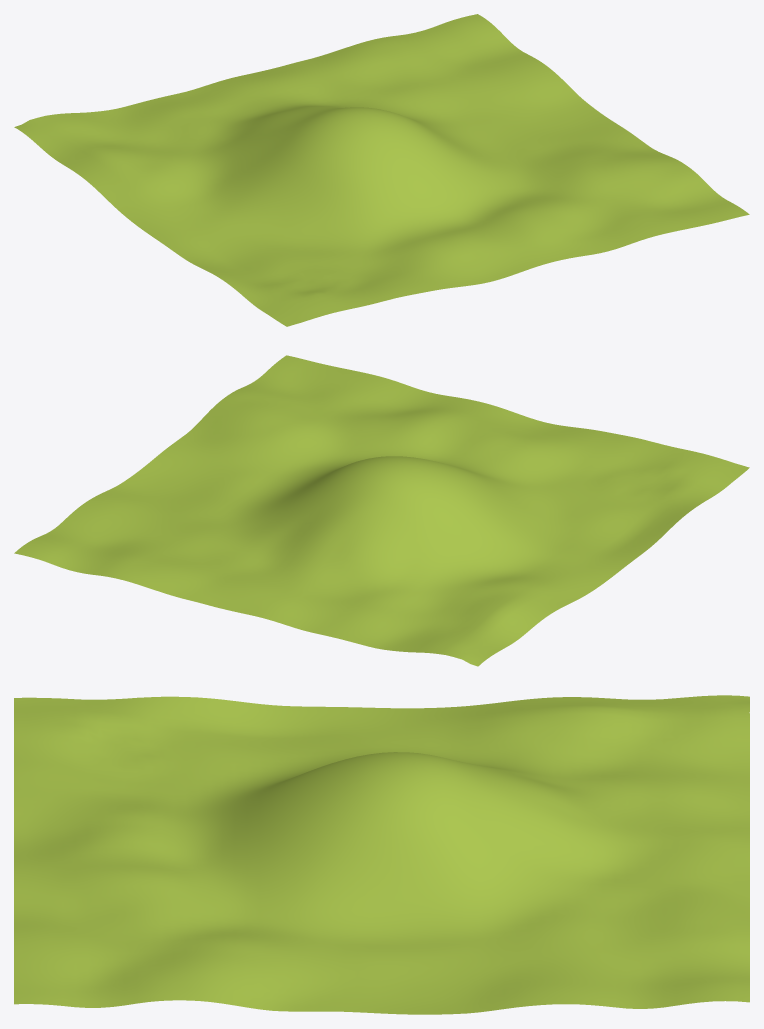
File: bosse_pos2.fbx
3 renders of one model, top to bottom at view 1: azimuth 30°, elevation 25°; view 2: azimuth 150°, elevation 25°; view 3: azimuth 270°, elevation 25°, orthographic. The views are drawn at different scales.
Visible parts, largest first — view 1: bosse_pos2; view 2: bosse_pos2; view 3: bosse_pos2.
Part boxes in pixels (x1,y1,x2,y2): bosse_pos2: (14, 14, 749, 326); bosse_pos2: (14, 355, 749, 666); bosse_pos2: (14, 695, 749, 1014).
Bounding box in the file's own units: 709 × 93.35 × 720.
